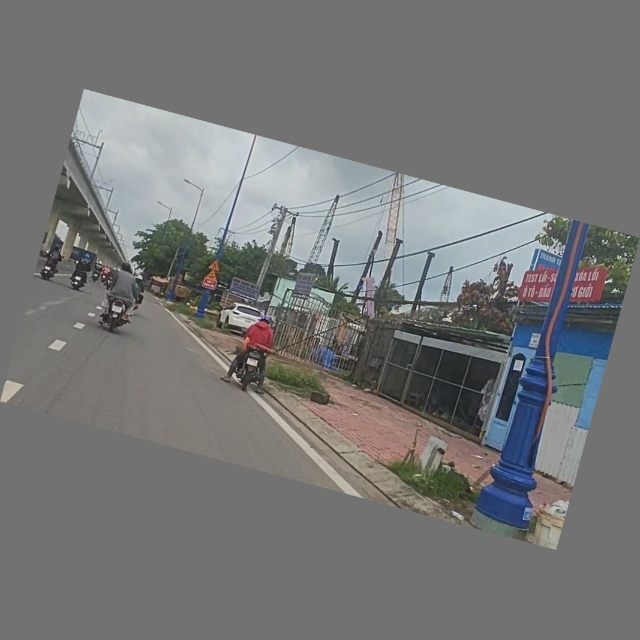W.203c: (208, 258, 223, 273)
W.245a: (205, 269, 220, 282)
